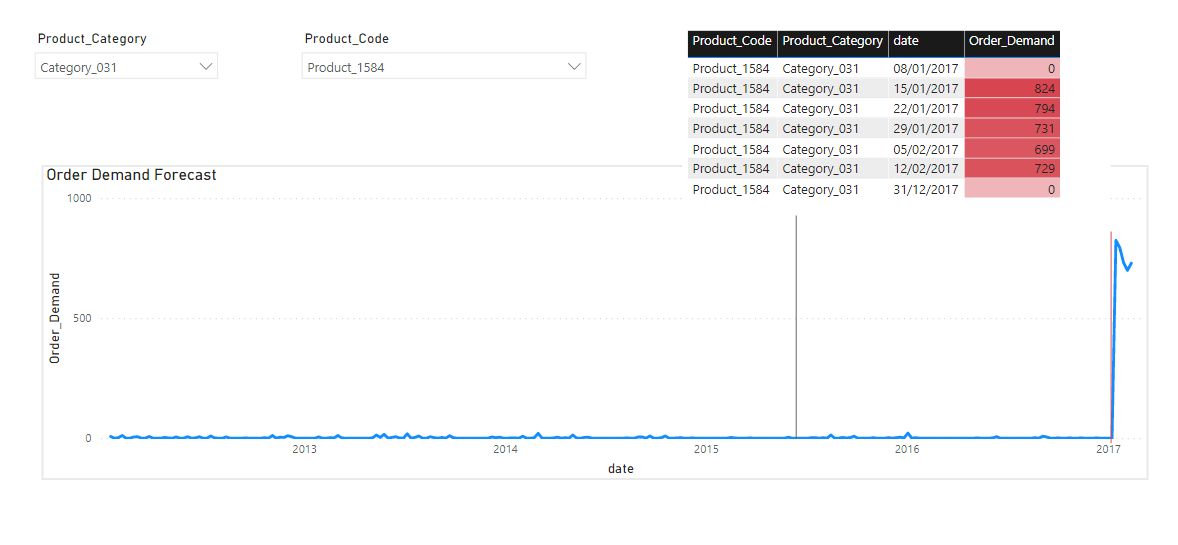

This screenshot's page, from the dashboard's own definition file:
{"tool":"powerbi","page":{"name":"Order demand","canvas":[1280,720],"ordinal":0},"visuals":[{"type":"lineChart","title":"Order Demand Forecast","fields":{"Y":["Sum(total_df.Order_Demand)"],"Category":["total_df.date"]},"box":[67.5,266.7,1157.6,329.4],"z":0},{"type":"slicer","fields":{"Values":["data.Product_Category"]},"box":[50.2,120.8,211.8,78],"z":1000},{"type":"slicer","fields":{"Values":["data.Product_Code"]},"box":[328.8,120.8,317.7,65],"z":2000},{"type":"basicShape","box":[1157.6,326.3,56.5,241.6],"z":2001},{"type":"tableEx","fields":{"Values":["data.Product_Code","data.Product_Category","total_df.date","Sum(total_df.Order_Demand)"]},"box":[737.5,120.8,447.7,198.8],"z":2002},{"type":"textbox","box":[0,0,1280,76.2],"z":2004}]}

Visuals, with their boxes in screenshot pixels (x1, y1, x2, y2):
"Order Demand Forecast" lineChart: [x1=212, y1=179, x2=1109, y2=435]
slicer - data.Product_Category: [x1=198, y1=66, x2=363, y2=127]
slicer - data.Product_Code: [x1=414, y1=66, x2=661, y2=116]
basicShape: [x1=1057, y1=225, x2=1101, y2=413]
tableEx - data.Product_Code x data.Product_Category: [x1=731, y1=66, x2=1079, y2=220]
textbox: [x1=160, y1=0, x2=1152, y2=31]
